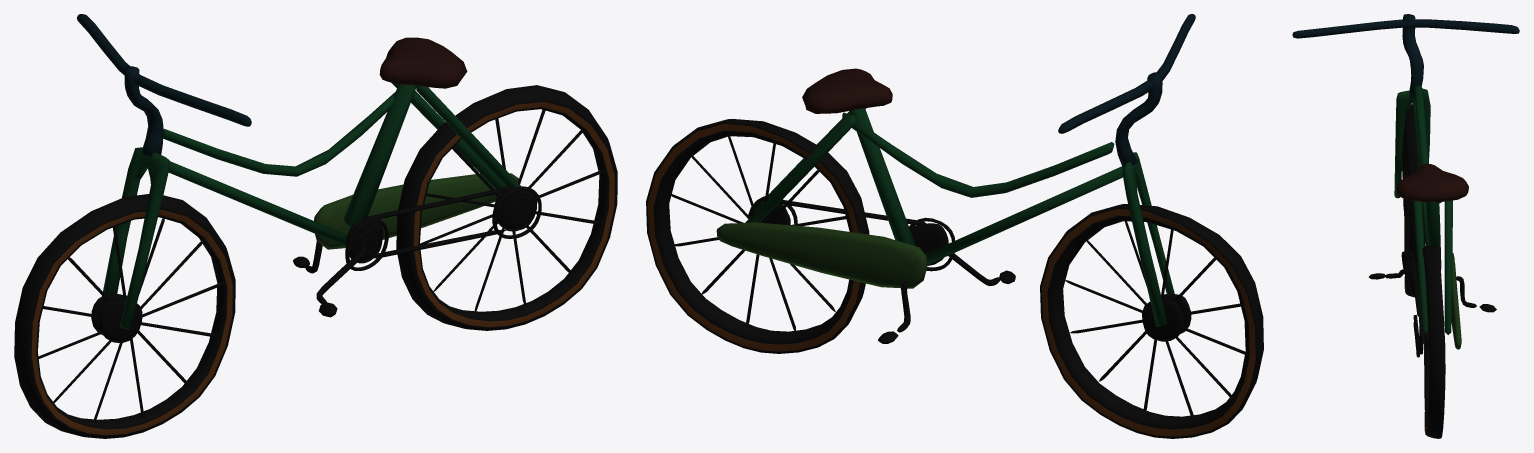
The model's file is Bike.fbx.
3 views of the same model, side by side, from view 1: azimuth 30°, elevation 25°; view 2: azimuth 150°, elevation 25°; view 3: azimuth 270°, elevation 25° (orthographic). The views are drawn at different scales.
Visible parts, largest first — view 1: Bike.008; view 2: Bike.008; view 3: Bike.008.
Boxes of the visible parts, <box> form: Bike.008: <box>14,14,617,438</box>; Bike.008: <box>646,14,1263,438</box>; Bike.008: <box>1292,14,1519,438</box>.
Bounding box in the file's own units: 1.72 × 0.7431 × 0.9819.
